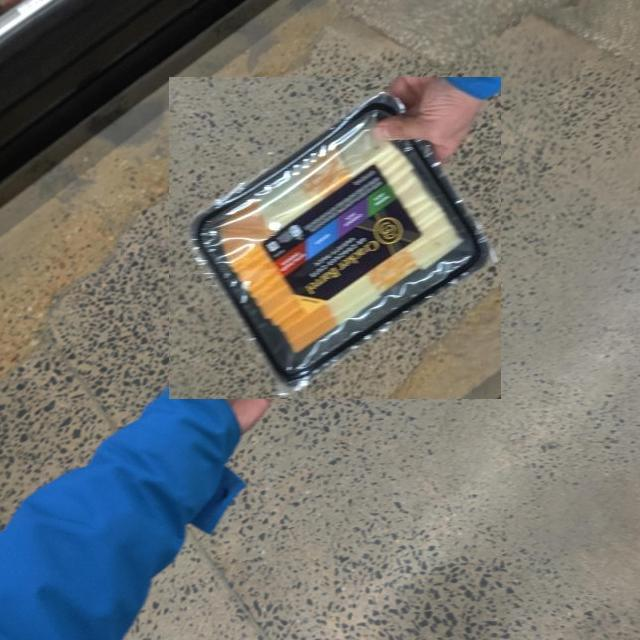Cheese: (168, 77, 501, 399)
